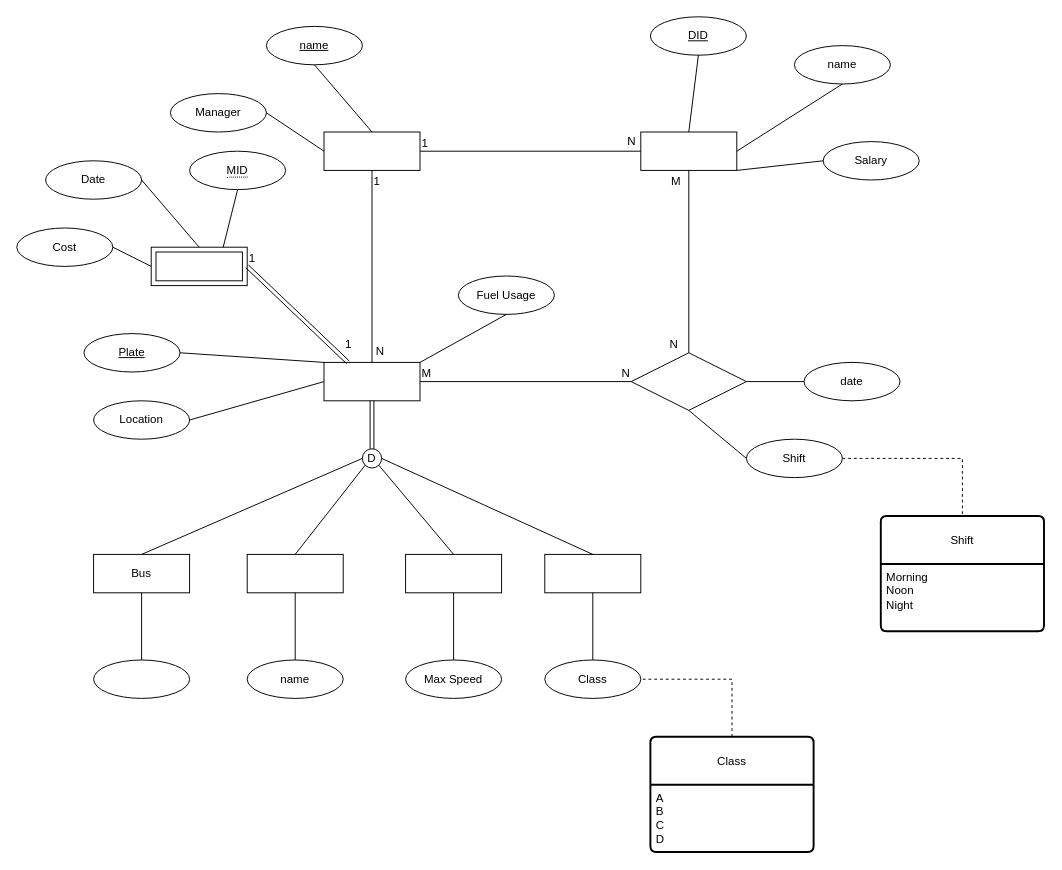
This 1062x870 diagram has some shape labels left out. Here are the shapes that lost their labels. From the top down, the centre of each, then its label:
At (x=371, y=150): "Company".
At (x=688, y=150): "Driver".
At (x=198, y=266): "Main tenance".
At (x=371, y=381): "Vehicle".
At (x=688, y=381): "Assignment".
At (x=294, y=573): "Car".
At (x=453, y=573): "Motor Cycle".
At (x=592, y=573): "Truck".
At (x=141, y=678): "Capacity".
